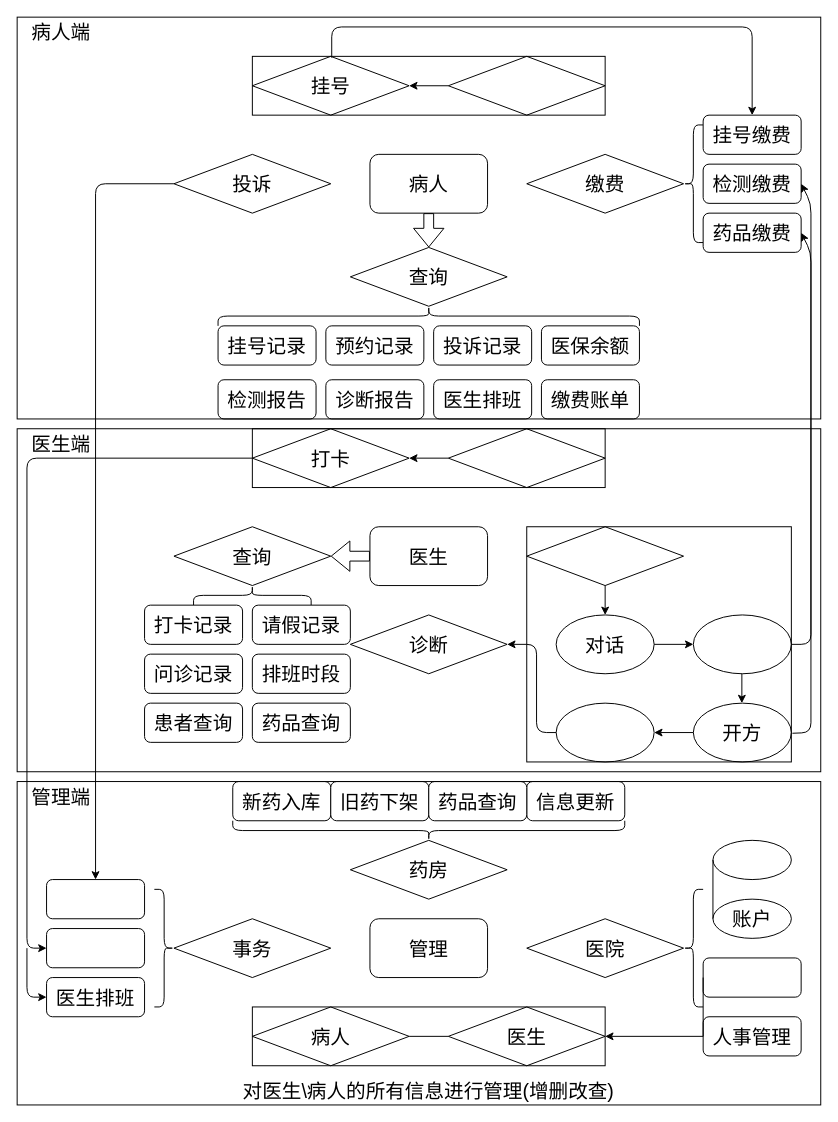
Some shapes in this 838 by 1122 pixel diagram are drawn without their labels. The centre of each missing label's shape, as x and y in pixels:
"医生考勤" belongs at [95,948].
"医院信息" belongs at [751,977].
"填写病例" belongs at [604,732].
"处理投诉" belongs at [95,899].
"检测" belongs at [741,644].
"请假" belongs at [526,458].
"账单" belongs at [751,859].
"问诊" belongs at [605,556].
"预约" belongs at [526,85].
